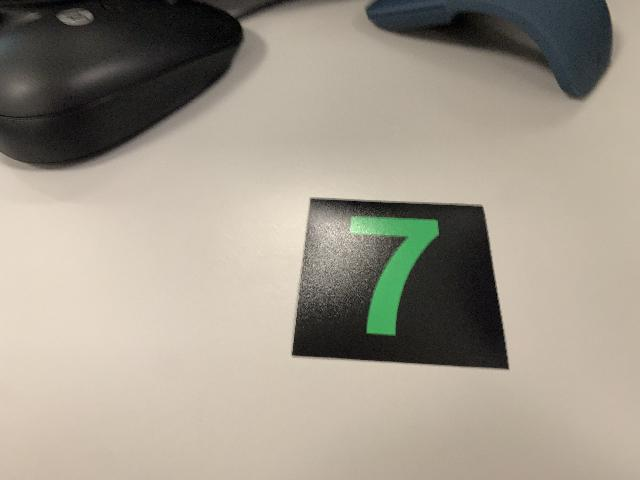seven: (287, 195, 512, 372)
